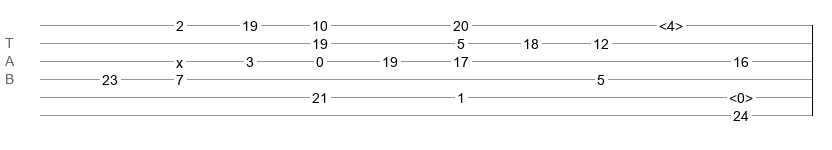0: (316, 54, 324, 64)
1: (457, 90, 465, 100)
10: (312, 18, 328, 28)
12: (593, 36, 609, 46)
16: (733, 54, 749, 64)
17: (453, 54, 469, 64)
18: (523, 36, 539, 46)
19: (242, 18, 258, 28), (312, 36, 328, 46), (382, 54, 398, 64)
2: (176, 18, 184, 28)
20: (453, 18, 469, 28)
21: (312, 90, 328, 100)
23: (102, 72, 118, 82)
24: (733, 108, 749, 118)
3: (246, 54, 254, 64)
5: (457, 36, 465, 46), (597, 72, 605, 82)
7: (176, 72, 184, 82)
harmonic: (659, 18, 683, 28), (729, 90, 753, 100)
x: (176, 55, 183, 63)
